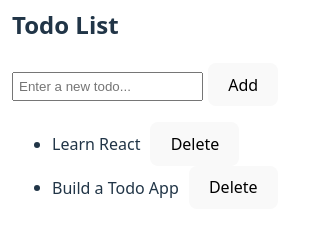
Test: TodoList Component › deletes a todo
This screenshot has width=332, height=225.
Click the button with test id "delete-2" at point(233, 187), box [189,166,278,209]
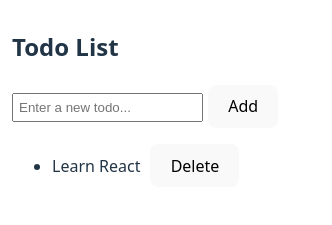
Now the text "Build a Todo App" is gone
